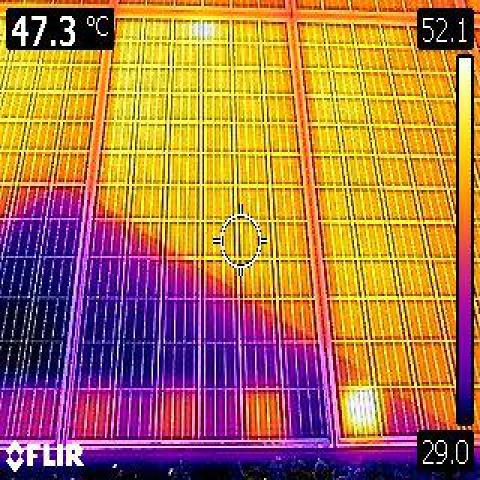fault: (337, 386, 383, 436), (192, 22, 214, 40)
